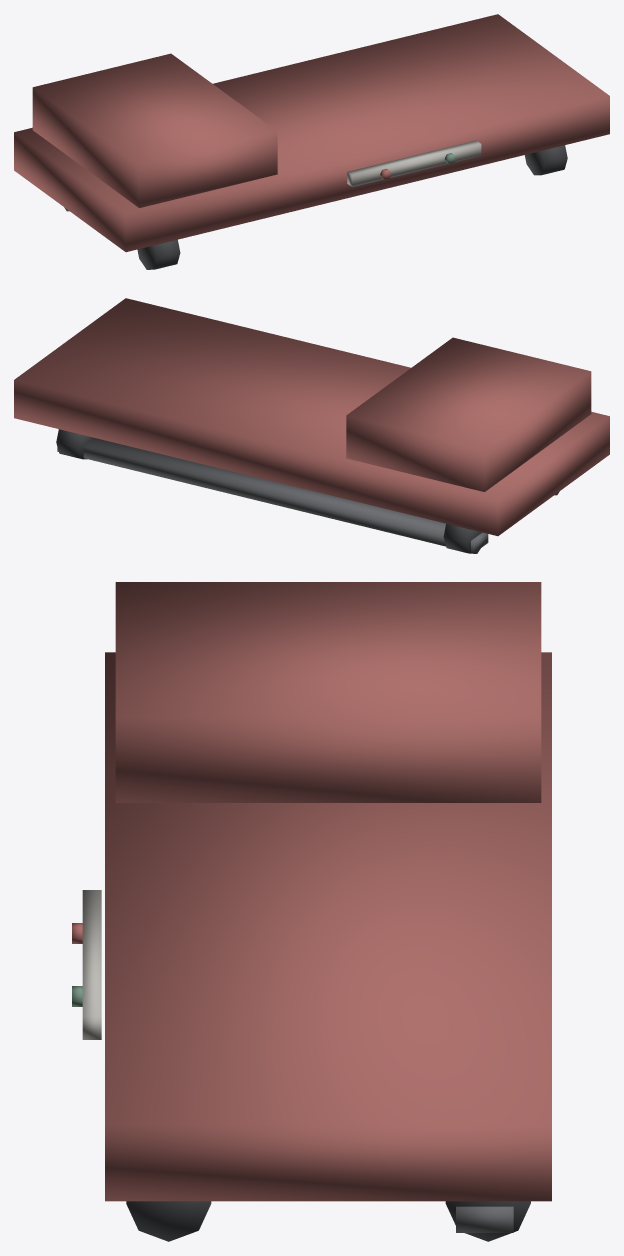
Rendered from mechanic_creeper__reinforced.glb.
The picture shows the model from 3 angles, top to bottom: view 1: azimuth 30°, elevation 25°; view 2: azimuth 150°, elevation 25°; view 3: azimuth 270°, elevation 25°; orthographic projection. The views are drawn at different scales.
Visible parts, largest first — view 1: world; view 2: world; view 3: world.
Part boxes in pixels (box(x1,y1,x2,y2)): world: box(14, 14, 609, 269); world: box(14, 298, 609, 553); world: box(72, 582, 551, 1241).
Size of the model in its own units: 1.08 by 0.255 by 0.4645.
